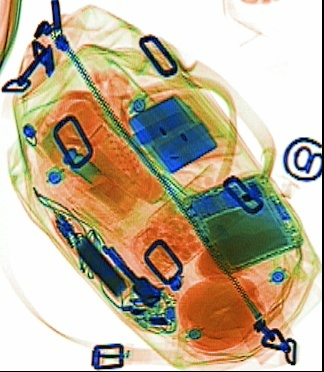powerbank: (70, 232, 134, 304)
